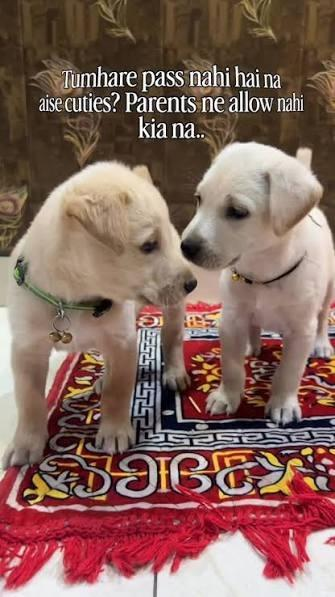puppy-dog: (1, 161, 198, 469), (179, 141, 335, 429)
